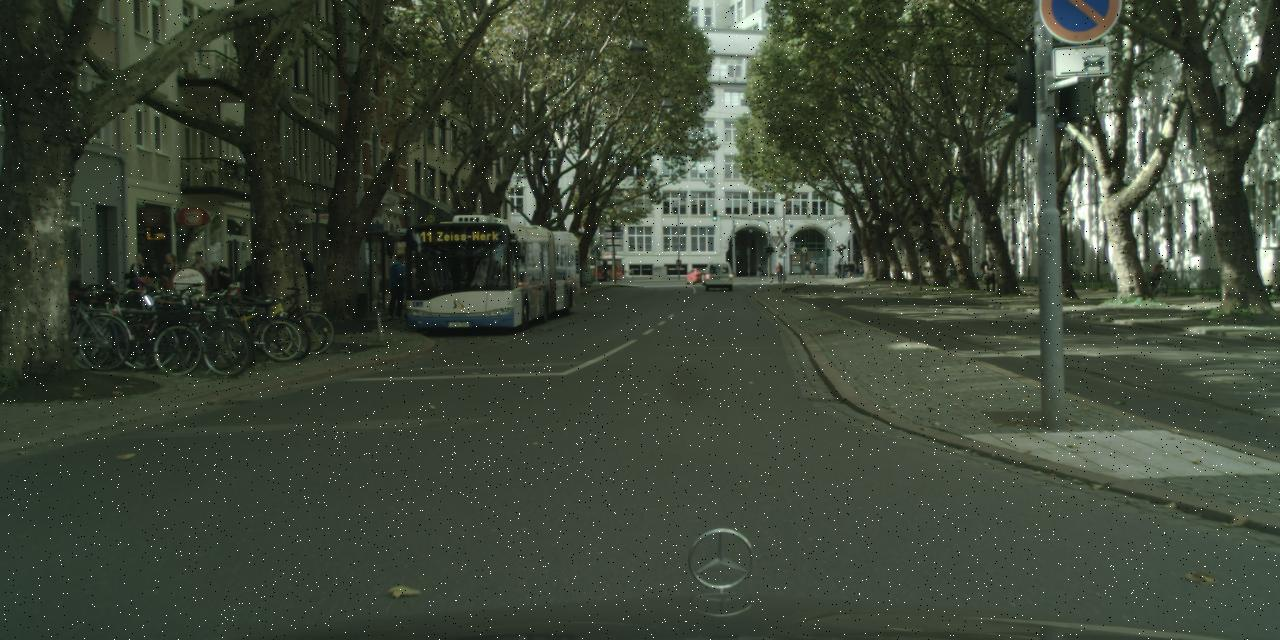ped: (124, 251, 154, 326), (157, 252, 186, 325), (191, 250, 234, 294), (384, 252, 411, 318), (290, 251, 316, 317), (237, 258, 262, 320), (983, 256, 998, 293), (1150, 257, 1164, 291), (844, 258, 865, 278), (804, 260, 816, 278), (774, 261, 782, 282), (834, 261, 841, 278), (756, 263, 762, 277)
